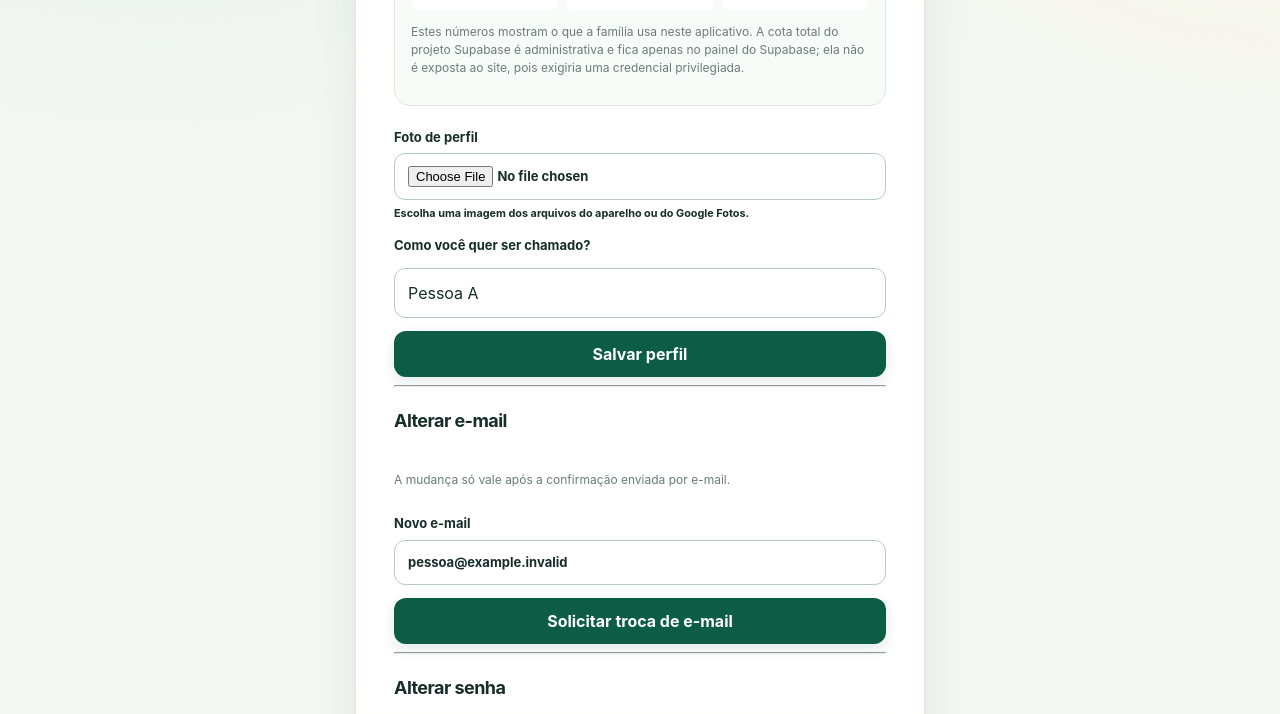
Test: acesso privado › bloqueia gravação quando o vínculo foi revogado
(page scrolled)
Check: the field labelled "Como você quer ser chamado?" is shown, box [394, 268, 886, 318]
Step 1. Click the button "Salvar perfil" → click(640, 354), box [394, 331, 886, 377]
(page scrolled)
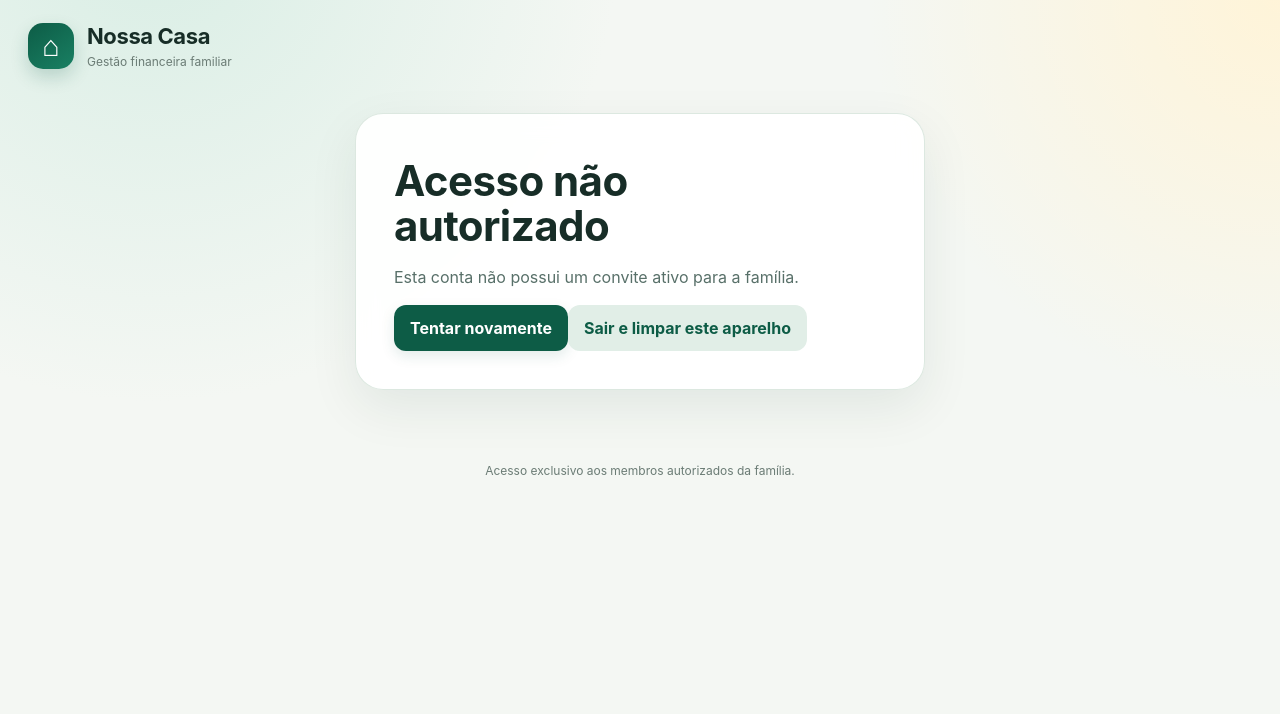
Check: the heading "Acesso não autorizado" is shown, box [394, 155, 628, 251]
